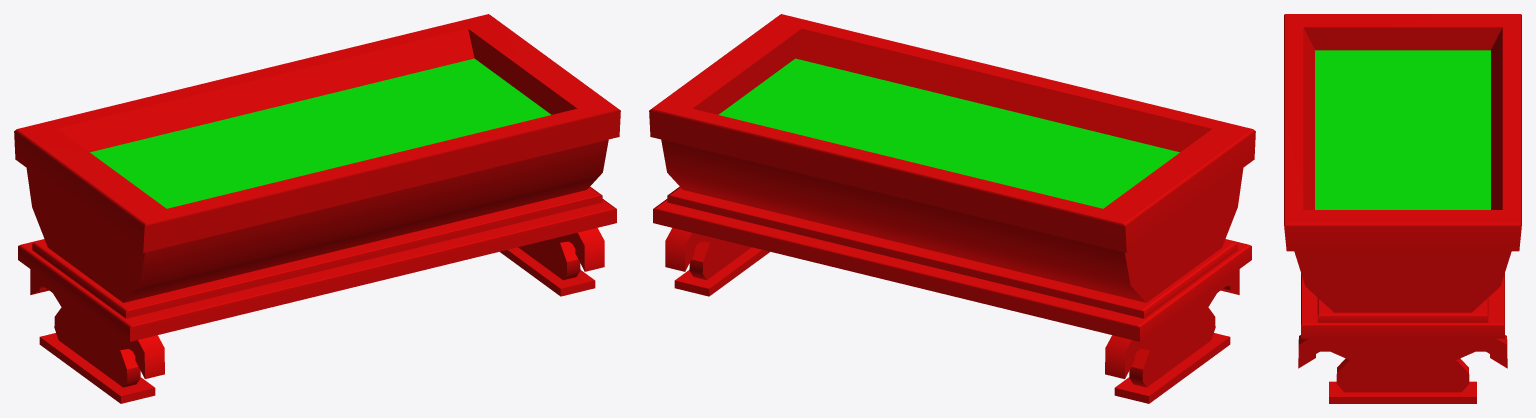
File: dom_znati_cvetocnii_gorwok_1_.fbx
3 renders of one model, left to right at view 1: azimuth 30°, elevation 25°; view 2: azimuth 150°, elevation 25°; view 3: azimuth 270°, elevation 25°, orthographic. The views are drawn at different scales.
Parts seen in each view (by area): view 1: dom_znati_cvetocnii_gorwok_1_; view 2: dom_znati_cvetocnii_gorwok_1_; view 3: dom_znati_cvetocnii_gorwok_1_.
Boxes of the visible parts, bbox=[...] form: dom_znati_cvetocnii_gorwok_1_: bbox=[14, 14, 620, 403]; dom_znati_cvetocnii_gorwok_1_: bbox=[649, 14, 1255, 403]; dom_znati_cvetocnii_gorwok_1_: bbox=[1284, 14, 1521, 403].
Size of the model in its own units: 11.44 by 4.44 by 5.31.
